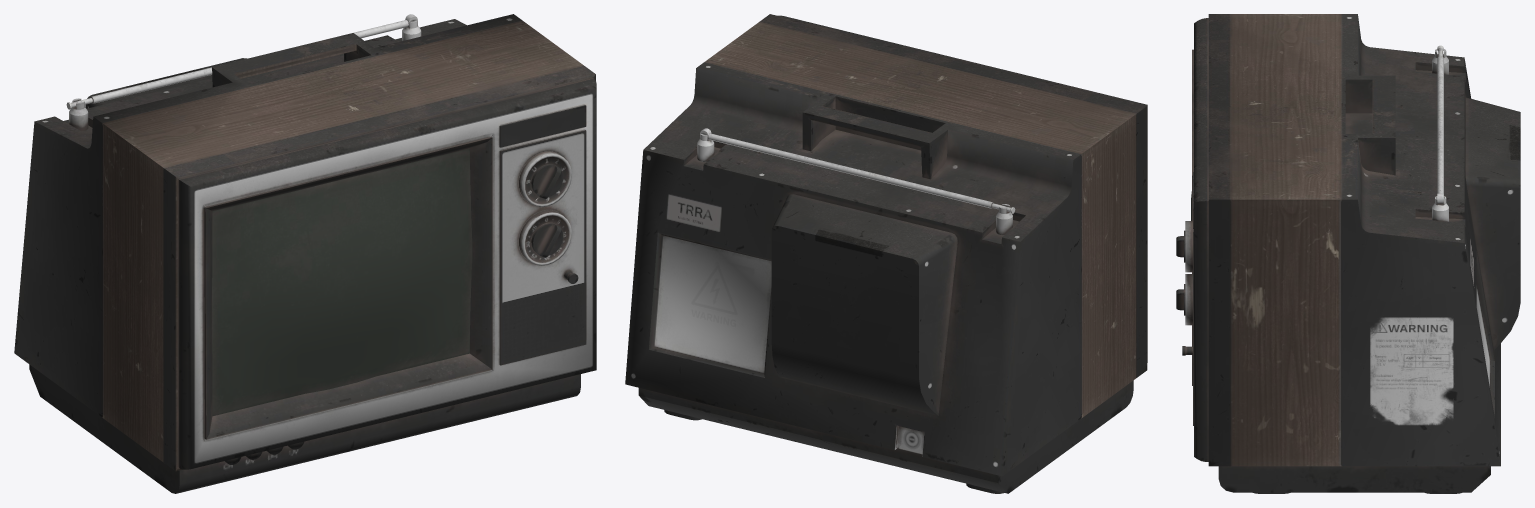
3 renders of one model, left to right at view 1: azimuth 30°, elevation 25°; view 2: azimuth 150°, elevation 25°; view 3: azimuth 270°, elevation 25°, orthographic. The views are drawn at different scales.
Parts seen in each view (by area): view 1: Television_01; view 2: Television_01; view 3: Television_01.
Boxes of the visible parts, bbox=[...] form: Television_01: bbox=[14, 14, 596, 493]; Television_01: bbox=[625, 14, 1147, 493]; Television_01: bbox=[1176, 14, 1520, 493].
Bounding box in the file's own units: 0.6 × 0.4568 × 0.4708.
1 material, 1 textured.
